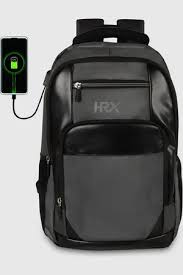backpack: (35, 17, 182, 250)
